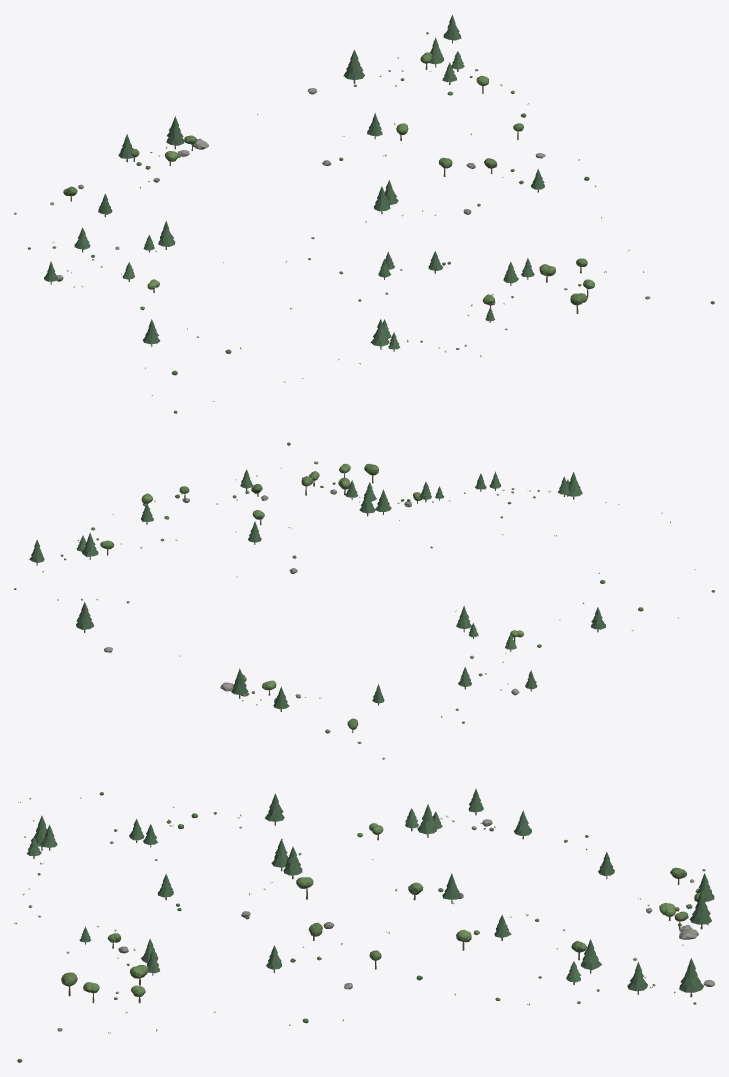
Rendered from arch_land_scatter_c20_19.glb.
3 renders of one model, top to bottom at view 1: azimuth 30°, elevation 25°; view 2: azimuth 150°, elevation 25°; view 3: azimuth 270°, elevation 25°, orthographic. The views are drawn at different scales.
Visible parts, largest first — view 1: arch_land_scatter_c20_19; view 2: arch_land_scatter_c20_19; view 3: arch_land_scatter_c20_19.
Boxes of the visible parts, box(x1,y1,x2,y2) form: arch_land_scatter_c20_19: box(14, 15, 714, 413); arch_land_scatter_c20_19: box(14, 442, 714, 759); arch_land_scatter_c20_19: box(14, 788, 714, 1062).
Size of the model in its own units: 252 by 61.21 by 256.
